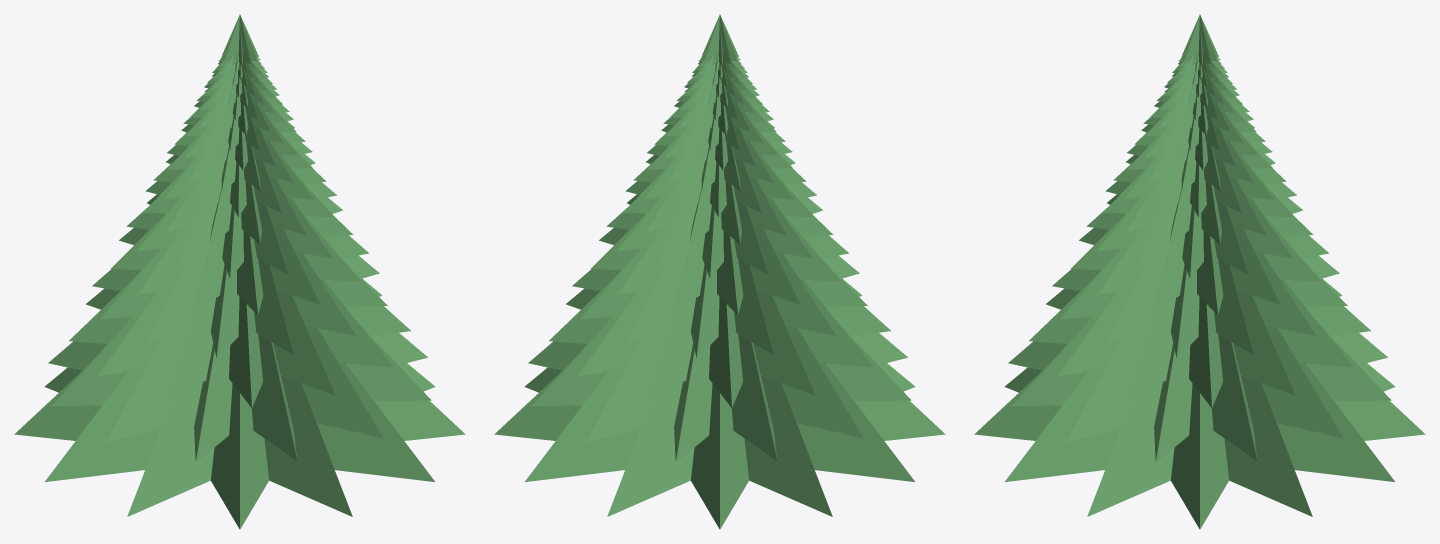
Rendered from tree_2.glb.
The picture shows the model from 3 angles, left to right: view 1: azimuth 30°, elevation 25°; view 2: azimuth 150°, elevation 25°; view 3: azimuth 270°, elevation 25°; orthographic projection.
Visible parts, largest first — view 1: Mesh_Mesh_head_geo.001_lambert2SG.001; view 2: Mesh_Mesh_head_geo.001_lambert2SG.001; view 3: Mesh_Mesh_head_geo.001_lambert2SG.001.
Boxes of the visible parts, <box> form: Mesh_Mesh_head_geo.001_lambert2SG.001: <box>14,14,465,529</box>; Mesh_Mesh_head_geo.001_lambert2SG.001: <box>494,14,945,529</box>; Mesh_Mesh_head_geo.001_lambert2SG.001: <box>974,14,1425,529</box>.
Size of the model in its own units: 37 by 41 by 37.
